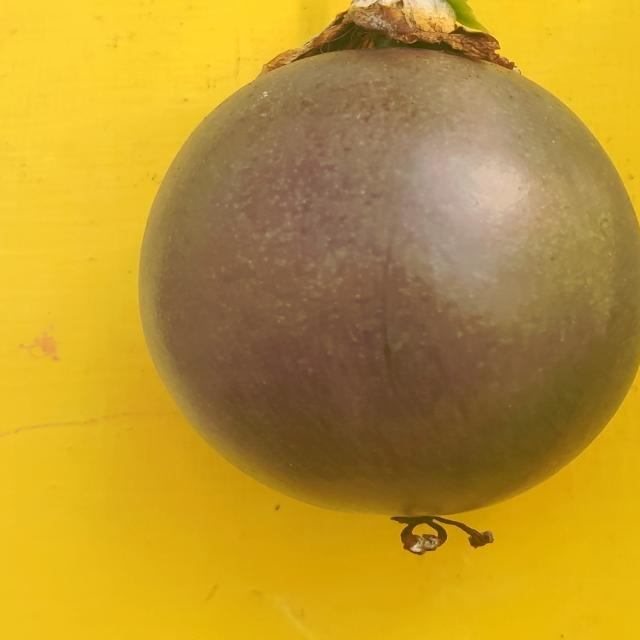Estado-4: (140, 0, 640, 514)
